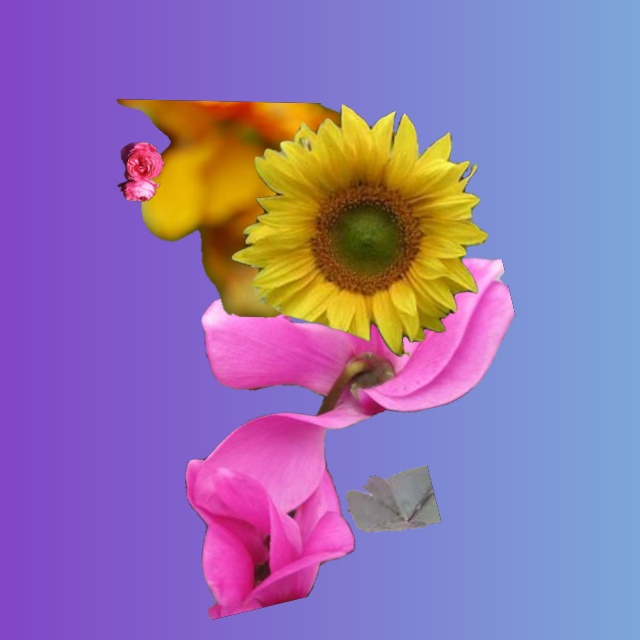butterfly flower: (346, 465, 440, 532)
cyclamen: (185, 198, 514, 619)
rose: (118, 142, 163, 201)
sunflower: (232, 105, 487, 358)
wallflower: (117, 99, 342, 317)
